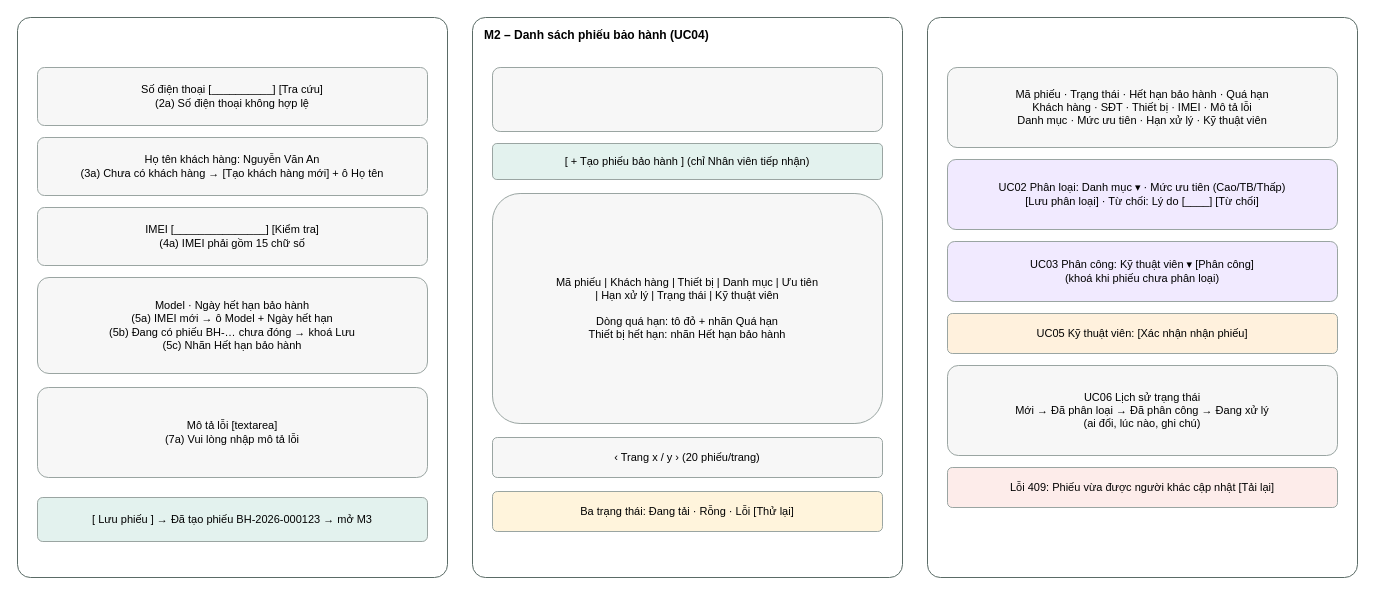
This 1375x595 diagram has some shape labels left out. The box of each missing label's shape, as (x1, y1, x2, y2) in pixels:
M1 – Tạo phiếu bảo hành (UC01, UC07): (16, 16, 448, 578)
M3 – Chi tiết phiếu (UC02, UC03, UC05, UC06): (926, 16, 1358, 578)
Tìm mã phiếu / SĐT [_____] Trạng thái ▾ Mức ưu tiên ▾ Hạn từ [__] đến [__] [Lọc]: (492, 66, 882, 132)
